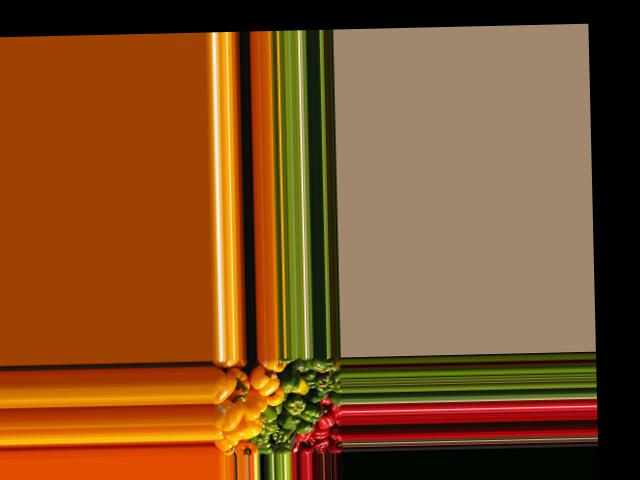bell_pepper: (317, 355, 340, 373)
